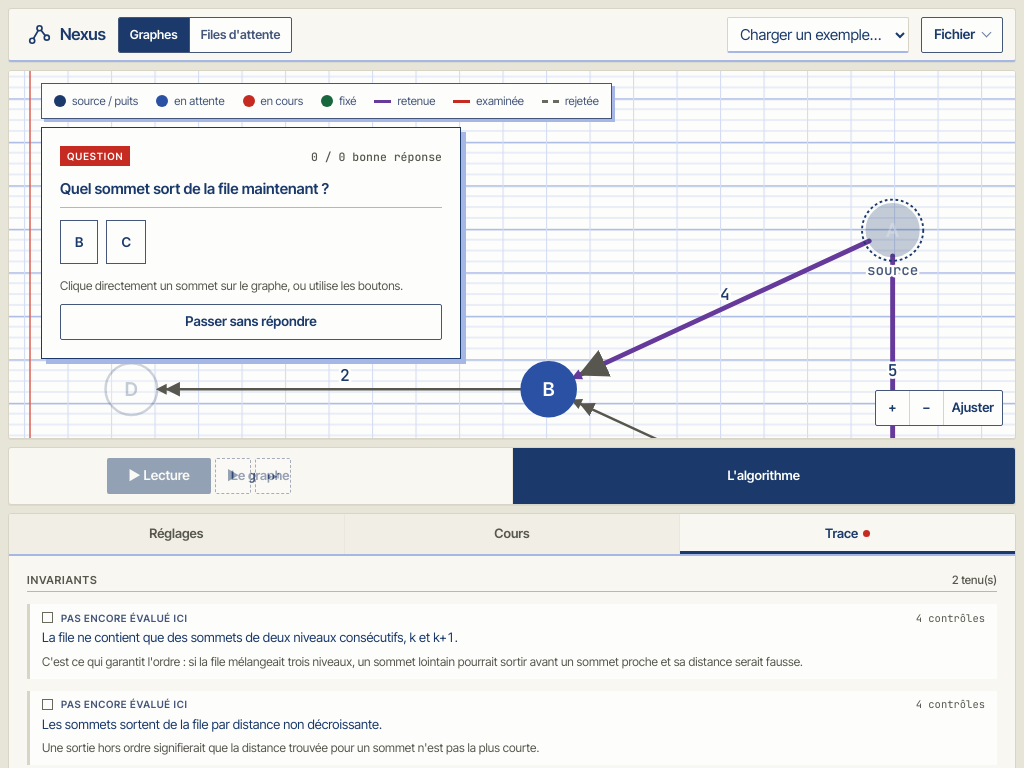
it: mode question › corrige une mauvaise réponse sans la masquer
Earlier steps of the test are not shown.
Click the button "C" at x=126, y=242, box [106,220,146,264]
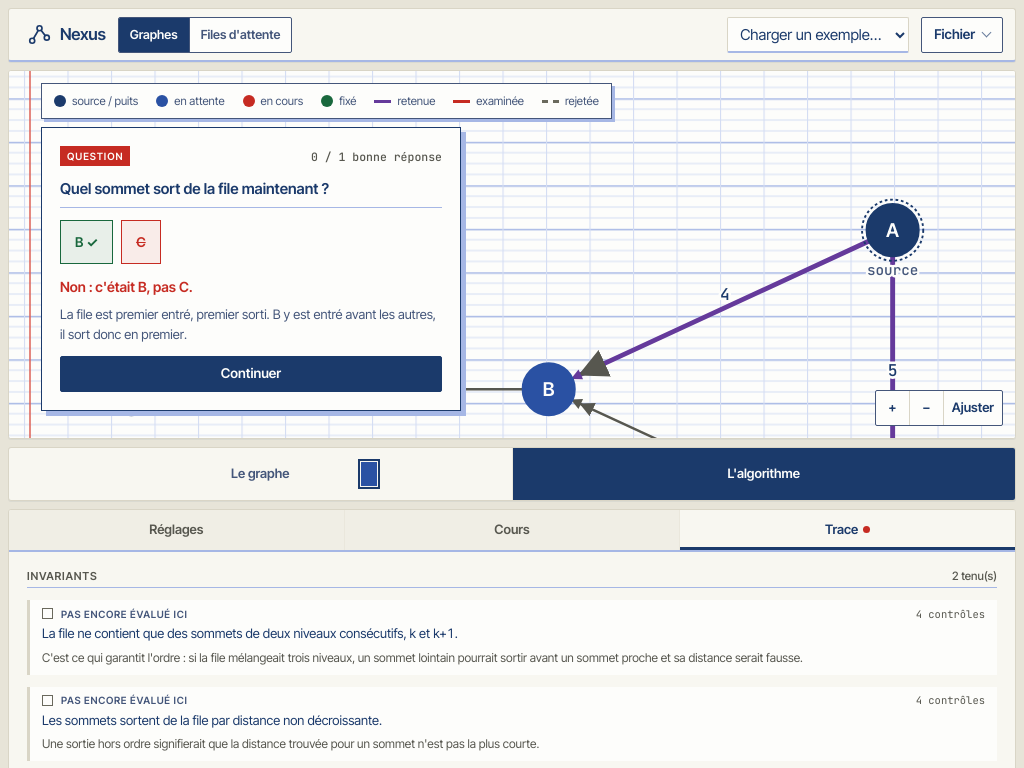
Check: the button "B" is shown, box [60,220,113,264]
Check: the text "Non : c'était B, pas C." is shown, box [60,278,192,295]
Check: the text "0 / 1 bonne réponse" is shown, box [311,151,442,162]
